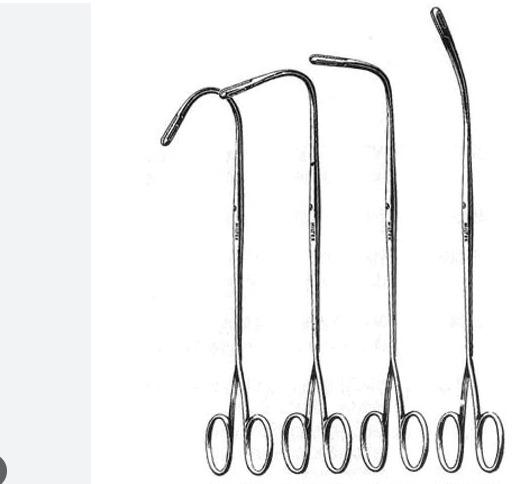Randall: (152, 76, 277, 476)
